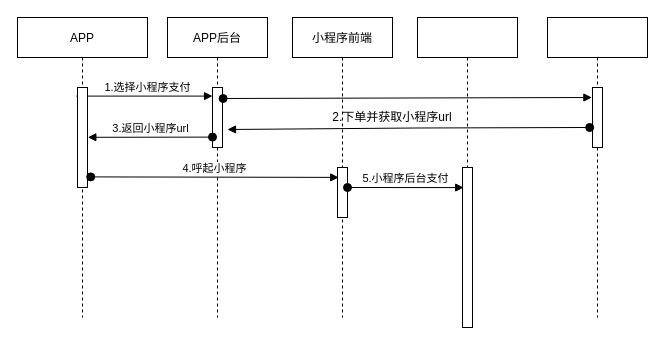
Some shapes in this 665 by 345 pixel diagram are drawn without their labels. Here are the shapes that lost their labels. From the top down, the centre of each, then its label:
the point at 467,167: 小程序后台
the point at 597,167: 支付平台
